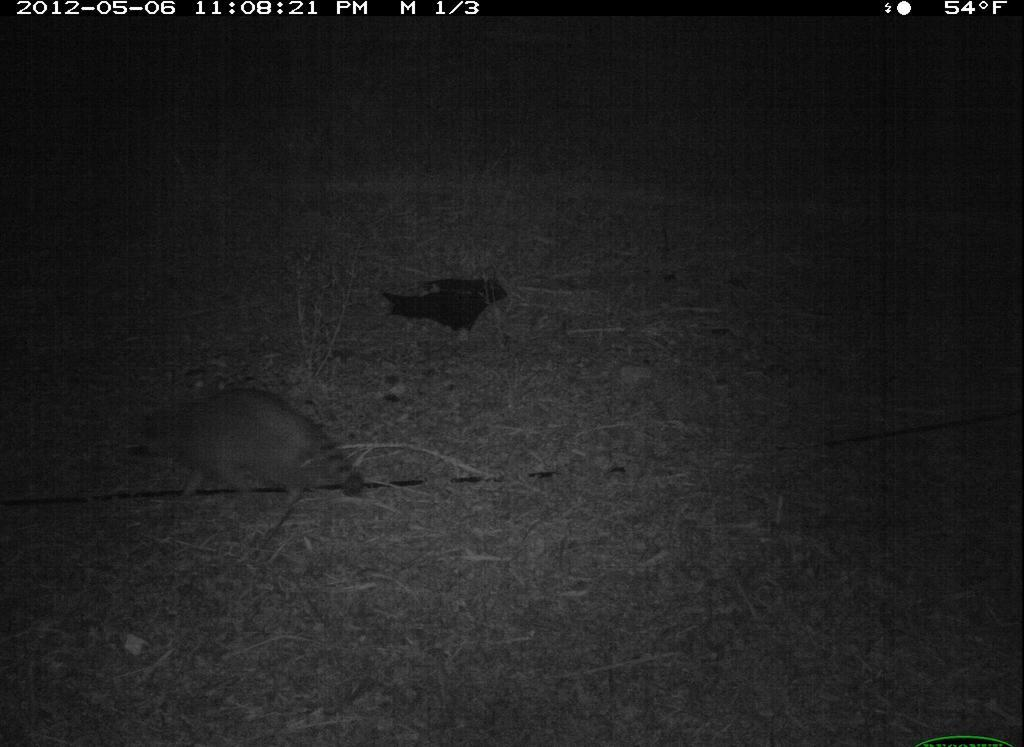raccoon: (134, 373, 364, 534)
